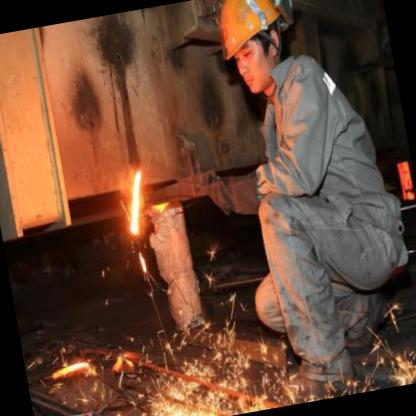helmet: (210, 0, 294, 101)
person: (152, 0, 416, 416)
